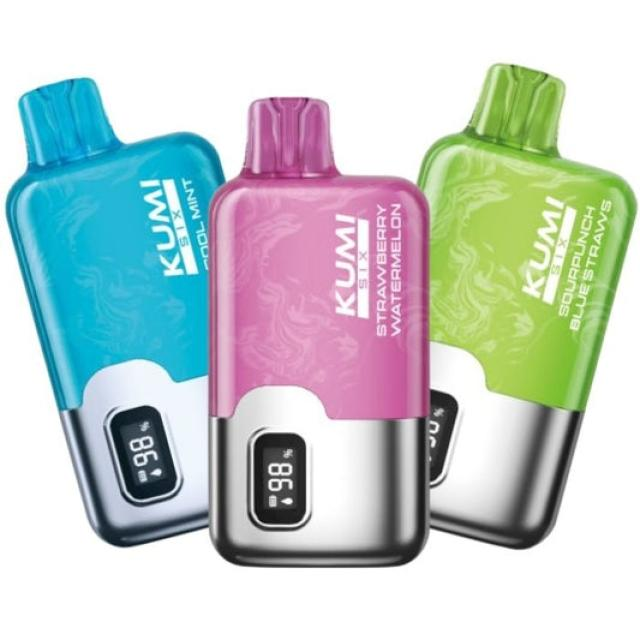Hazard: (205, 94, 431, 568)
